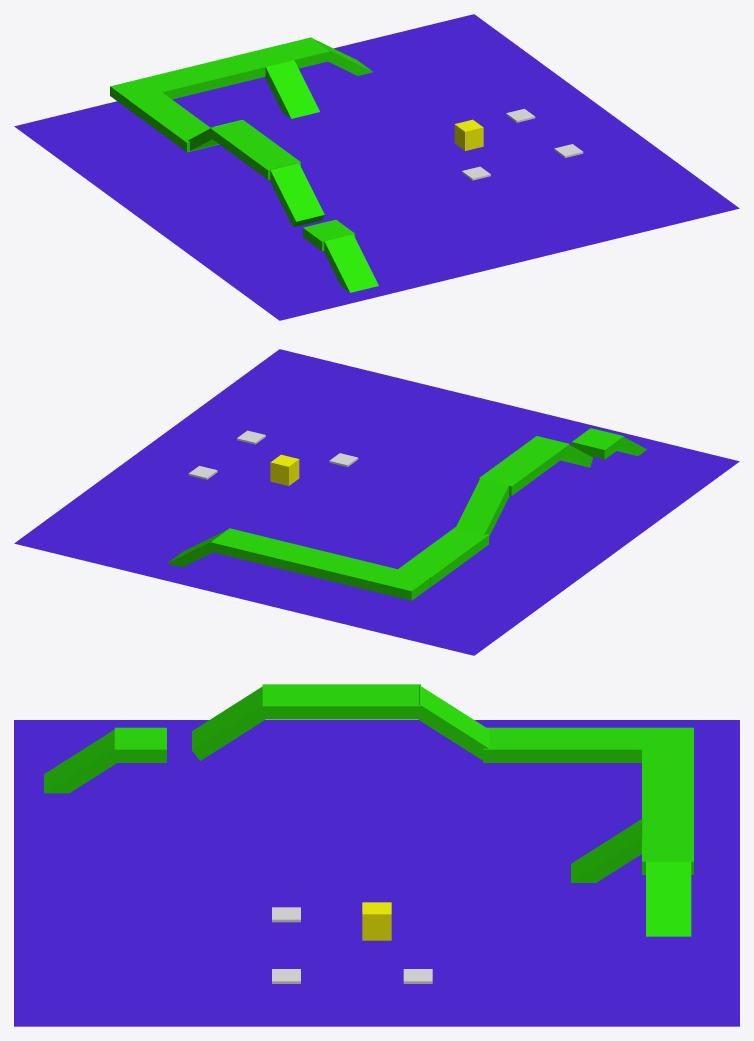
3 views of the same model, one above another, from view 1: azimuth 30°, elevation 25°; view 2: azimuth 150°, elevation 25°; view 3: azimuth 270°, elevation 25° (orthographic). The views are drawn at different scales.
Parts seen in each view (by area): view 1: Plane, Cube.003, Cube.001, Cube.006, Cube.004, Cube.008, Cube.007, Cube, Cube.009, Cube.010, Cube.002; view 2: Plane, Cube.003, Cube.001, Cube.006, Cube.004, Cube.005, Cube.009, Cube.010, Cube.002; view 3: Plane, Cube.006, Cube.004, Cube.001, Cube.003, Cube.002, Cube.008, Cube.005, Cube, Cube.007, Cube.009, Cube.010.
Part boxes in pixels (x1,y1,x2,y2): Plane: [14, 14, 739, 320]; Cube.003: [110, 62, 229, 109]; Cube.001: [211, 37, 330, 85]; Cube.006: [210, 120, 300, 179]; Cube.004: [129, 92, 219, 152]; Cube.008: [269, 163, 324, 227]; Cube.007: [323, 234, 378, 292]; Cube: [265, 60, 319, 118]; Cube.009: [303, 219, 355, 251]; Cube.010: [454, 119, 483, 150]; Cube.002: [312, 38, 373, 75]; Plane: [14, 349, 739, 655]; Cube.003: [311, 553, 430, 600]; Cube.001: [210, 528, 329, 576]; Cube.006: [478, 436, 569, 495]; Cube.004: [398, 527, 488, 586]; Cube.005: [455, 478, 509, 536]; Cube.009: [571, 428, 623, 459]; Cube.010: [270, 454, 299, 485]; Cube.002: [167, 529, 227, 567]; Plane: [14, 720, 739, 1026]; Cube.006: [262, 684, 420, 719]; Cube.004: [483, 727, 641, 762]; Cube.001: [642, 794, 693, 874]; Cube.003: [642, 727, 693, 794]; Cube.002: [646, 861, 691, 936]; Cube.008: [192, 686, 264, 760]; Cube.005: [418, 686, 489, 760]; Cube: [571, 819, 642, 882]; Cube.007: [44, 729, 116, 793]; Cube.009: [114, 727, 166, 762]; Cube.010: [362, 902, 391, 940].
Size of the model in its own units: 25 by 3.82 by 25.
